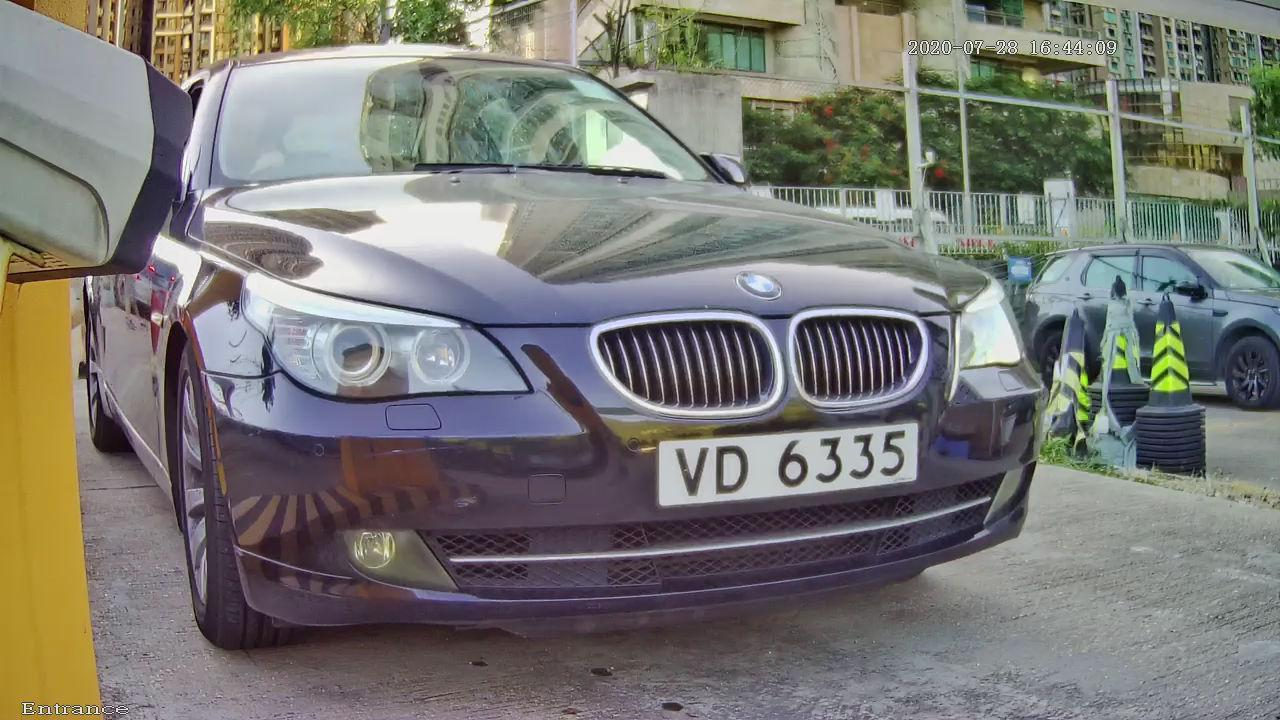privatecar: (55, 20, 1080, 660)
